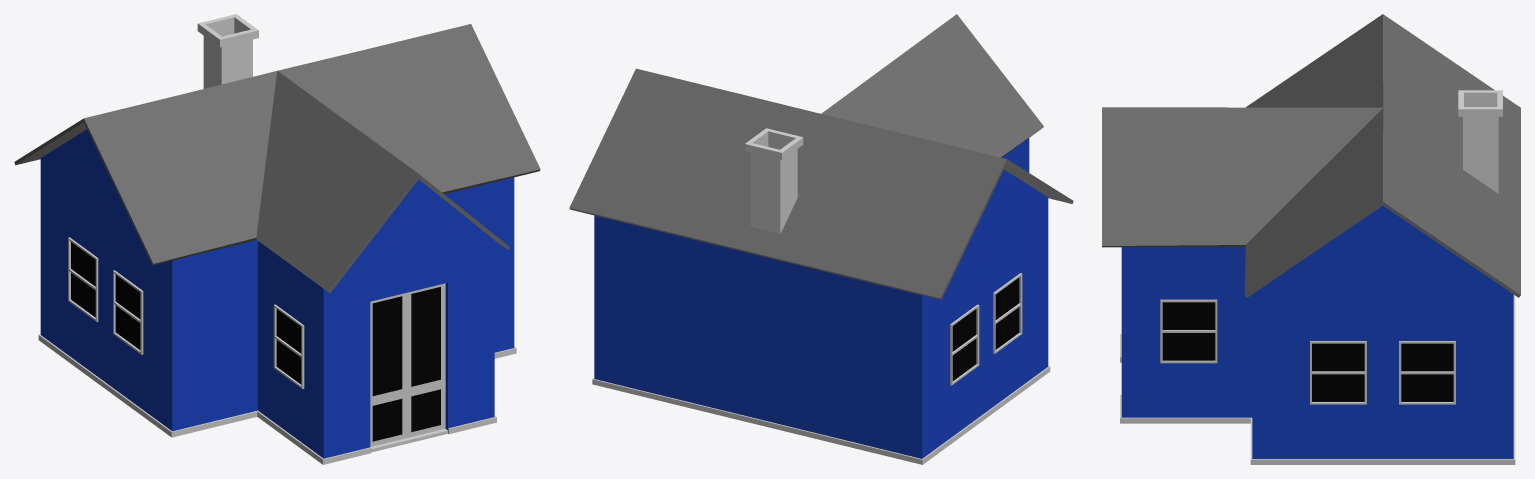
The model's file is house.fbx.
3 renders of one model, left to right at view 1: azimuth 30°, elevation 25°; view 2: azimuth 150°, elevation 25°; view 3: azimuth 270°, elevation 25°, orthographic. The views are drawn at different scales.
Visible parts, largest first — view 1: House; view 2: House; view 3: House.
Part boxes in pixels (x1,y1,x2,y2): House: (14,14,540,464); House: (569,14,1073,464); House: (1102,14,1520,464).
Bounding box in the file's own units: 679 × 476 × 641.
